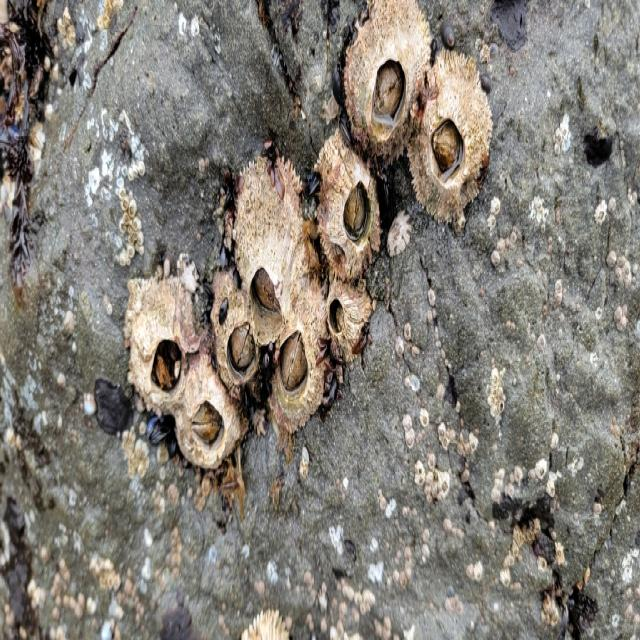barnacles: (337, 3, 428, 157), (238, 163, 314, 336), (414, 68, 493, 228), (121, 276, 195, 410), (318, 146, 386, 286), (273, 297, 327, 432), (182, 371, 246, 470), (217, 295, 265, 399), (324, 279, 368, 365)
